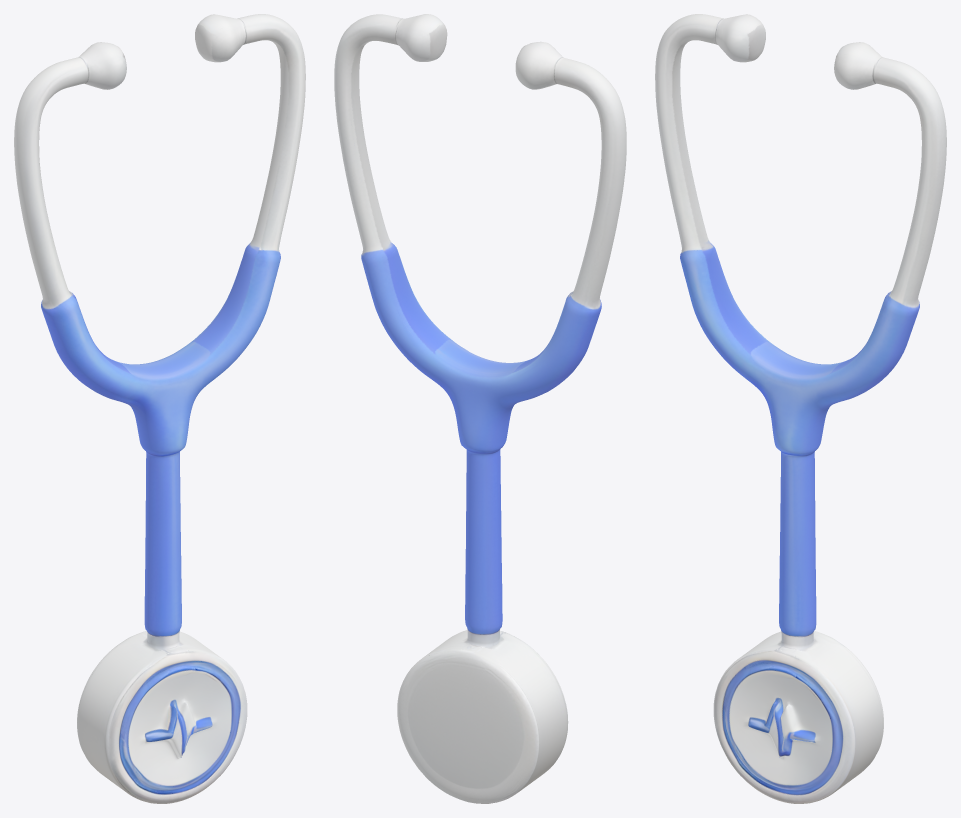
Rendered from base_basic_shaded.glb.
3 views of the same model, side by side, from view 1: azimuth 30°, elevation 25°; view 2: azimuth 150°, elevation 25°; view 3: azimuth 330°, elevation 25° (orthographic).
Visible parts, largest first — view 1: model; view 2: model; view 3: model.
Boxes of the visible parts, x1,y1,x2,y2 form: model: (14,14,305,803); model: (334,14,626,803); model: (655,14,946,803).
Size of the model in its own units: 0.753 by 1.9 by 0.1779.
1 material, 1 textured.
